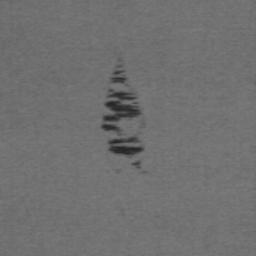Secondary rust skin: (101, 89, 141, 133), (108, 137, 144, 156), (111, 70, 127, 83)
